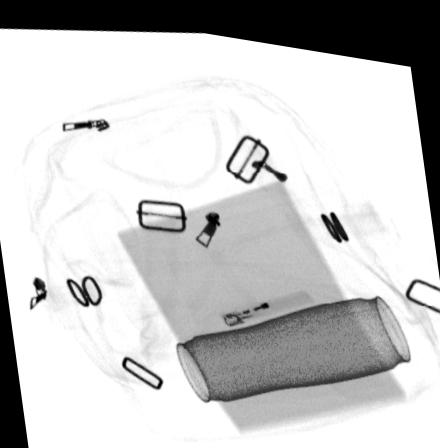Lighter: (220, 278, 316, 320)
